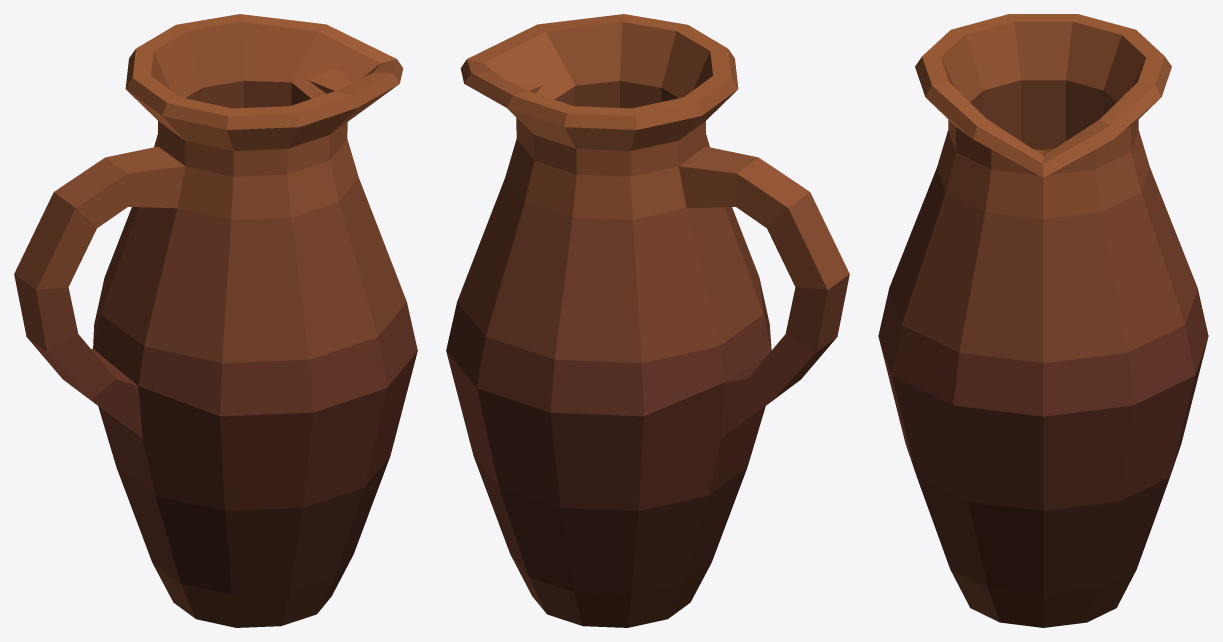
File: Prop_PitcherA.fbx
3 renders of one model, left to right at view 1: azimuth 30°, elevation 25°; view 2: azimuth 150°, elevation 25°; view 3: azimuth 270°, elevation 25°, orthographic.
Visible parts, largest first — view 1: Prop_PitcherA; view 2: Prop_PitcherA; view 3: Prop_PitcherA.
Boxes of the visible parts, left/top/right/bottom form: Prop_PitcherA: left=14, top=14, right=417, bottom=627; Prop_PitcherA: left=446, top=14, right=849, bottom=627; Prop_PitcherA: left=878, top=14, right=1208, bottom=627.
Size of the model in its own units: 32.28 by 43.16 by 24.37.
